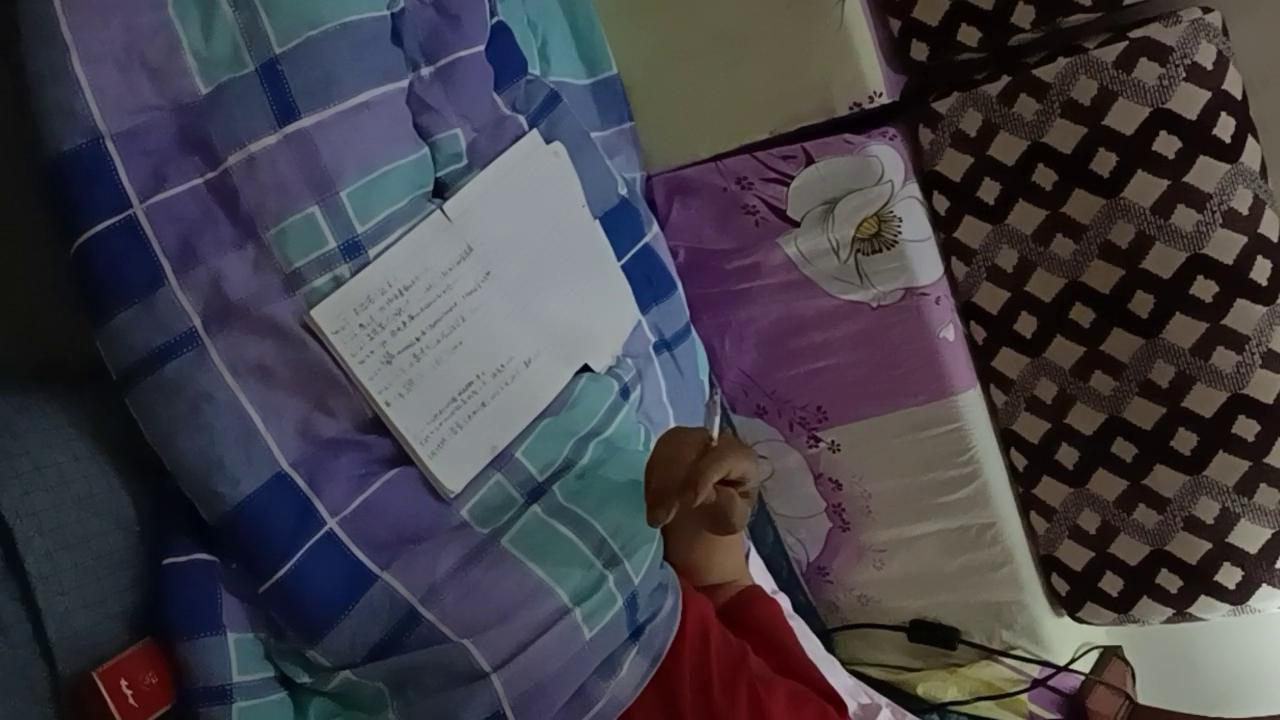smoke: (705, 387, 722, 460)
